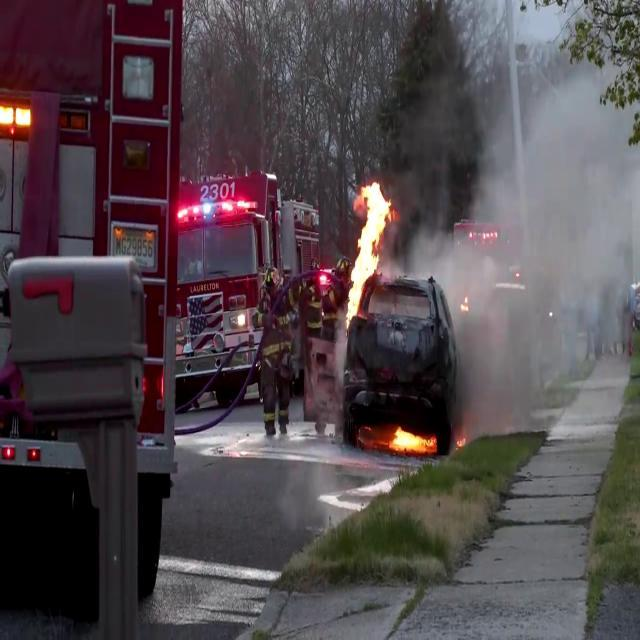Fire: (344, 174, 391, 326), (360, 420, 434, 457), (378, 421, 434, 459)
Smoke: (421, 8, 640, 429)
